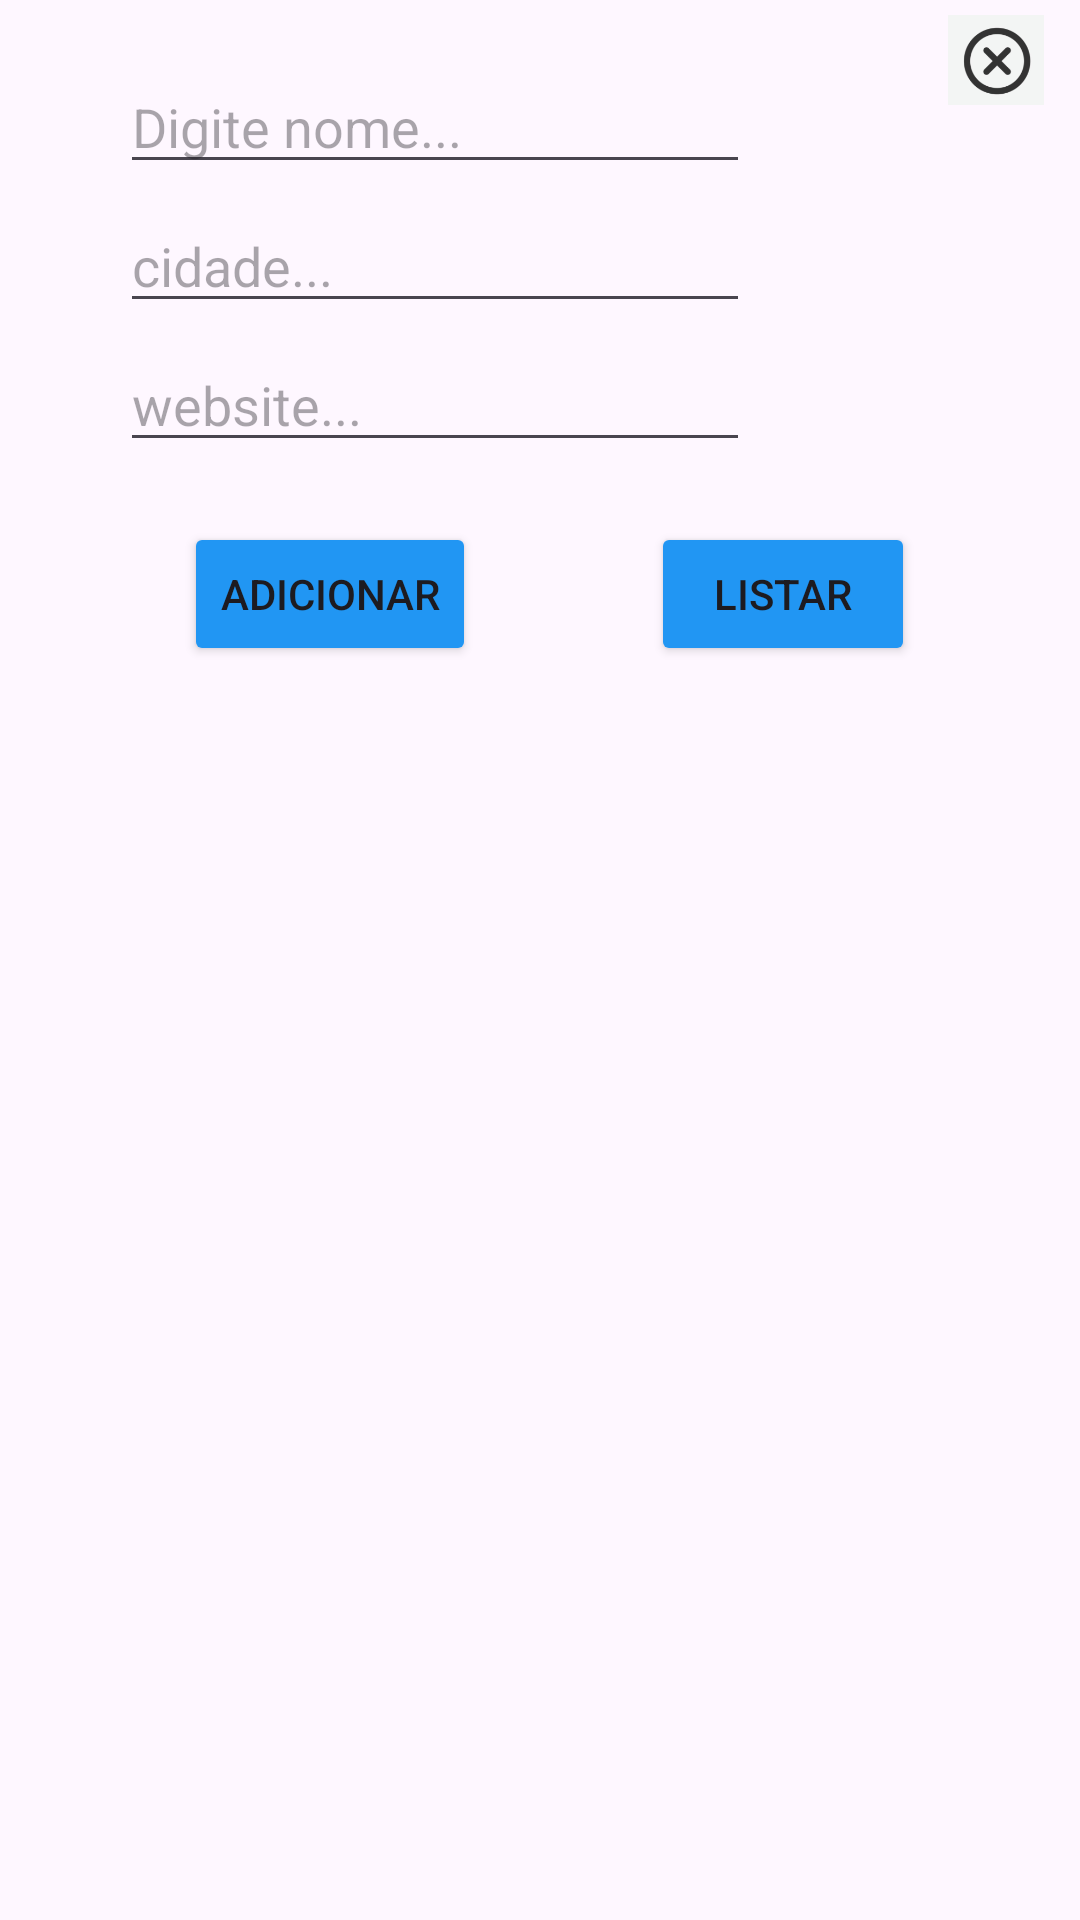

Named icons in this screenshot (1080w x 1920h) and their centers, [x,y]:
imagemsair: [996,60]
